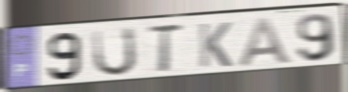9: (295, 12, 336, 63), (46, 31, 83, 82)
A: (236, 17, 295, 69)
K: (197, 20, 234, 69)
T: (144, 22, 186, 75)
U: (92, 25, 139, 78)
